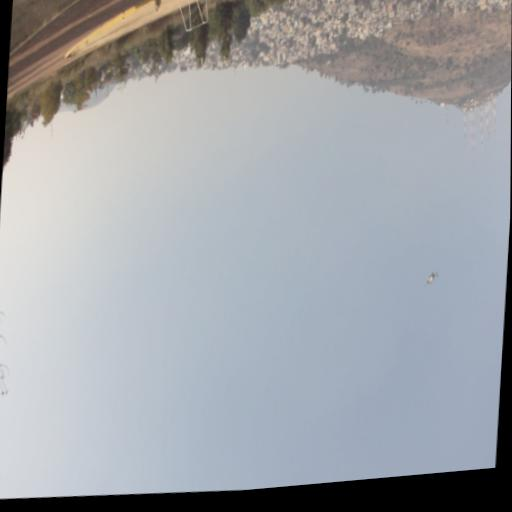drones: (424, 268, 440, 291)
